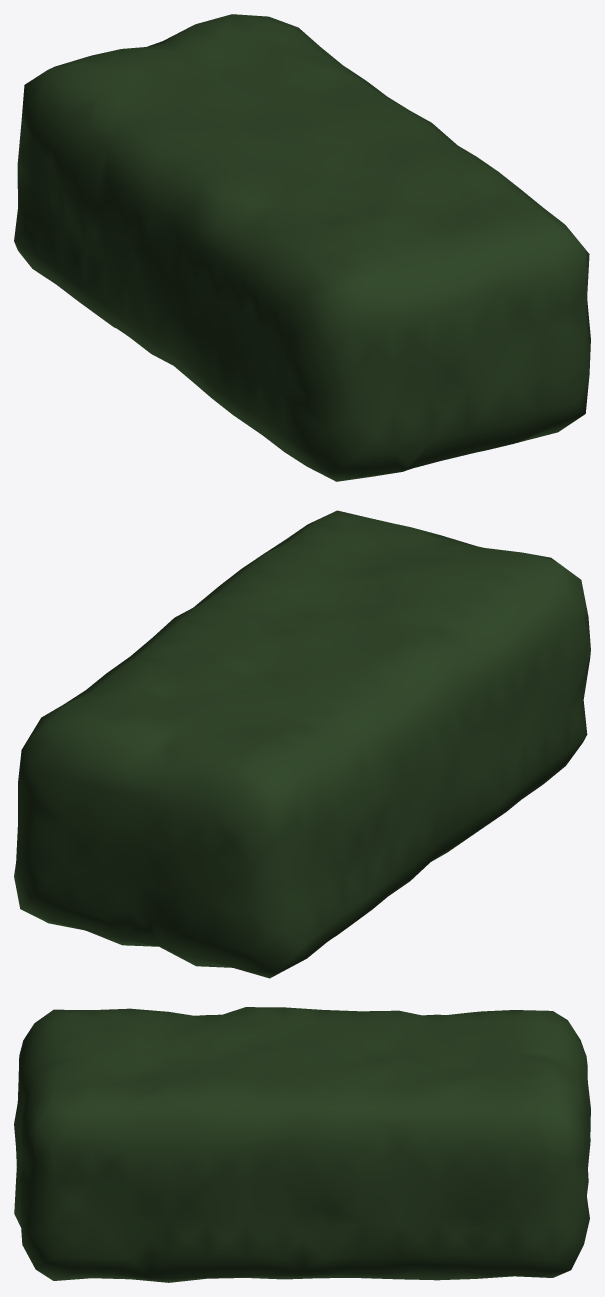
The model's file is hedge_block.glb.
3 views of the same model, one above another, from view 1: azimuth 30°, elevation 25°; view 2: azimuth 150°, elevation 25°; view 3: azimuth 270°, elevation 25° (orthographic). The views are drawn at different scales.
Parts seen in each view (by area): view 1: Mesh_Hedge; view 2: Mesh_Hedge; view 3: Mesh_Hedge.
Boxes of the visible parts, left/top/right/bottom form: Mesh_Hedge: left=14, top=14, right=590, bottom=481; Mesh_Hedge: left=14, top=510, right=590, bottom=978; Mesh_Hedge: left=14, top=1007, right=590, bottom=1282.
Bounding box in the file's own units: 0.8553 × 0.6139 × 1.67.
